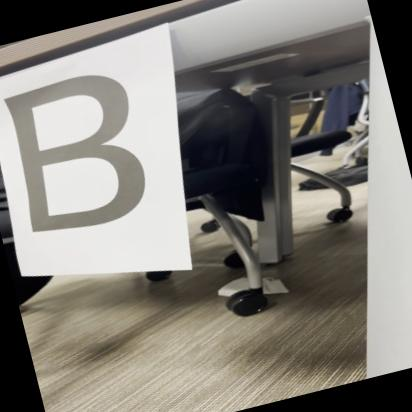seat: (0, 55, 184, 262)
